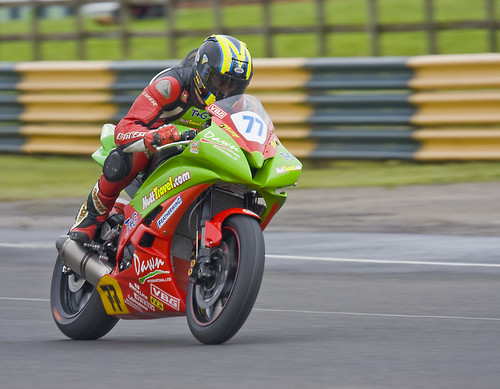helmet: (188, 25, 251, 90)
